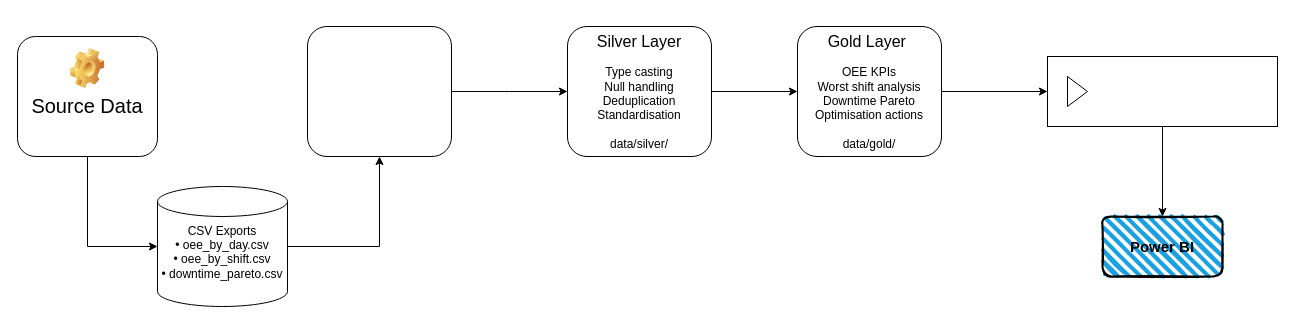
Some shapes in this 1295 by 324 pixel diagram are drawn without their labels. Here are the shapes that lost their labels. From the top down, the box of each, then its label:
(306, 26, 452, 156): Bronze Layer Raw ingestion Schema validation Quality checks data/bronze/
(1046, 56, 1278, 126): Analytics & Reporting
